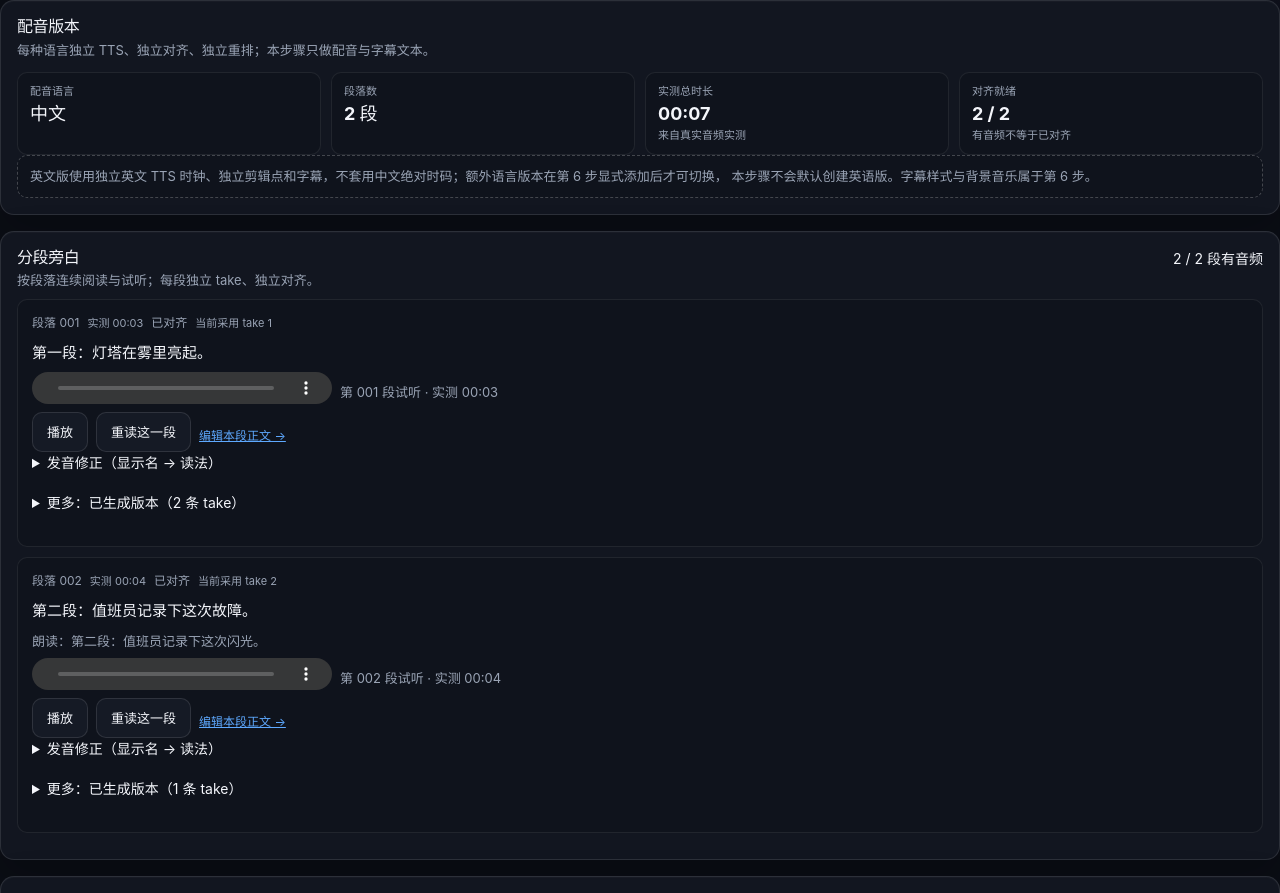
Test: audio page — narration reading and audition › says a re-read was not accepted instead of claiming success
The image size is (1280, 893).
Check: the text "第一段：灯塔在雾里亮起。" is shown, box [32,343,212,362]
Click the button "重读这一段" below "第 001 段试听": (144, 432) [96,412,191,452]
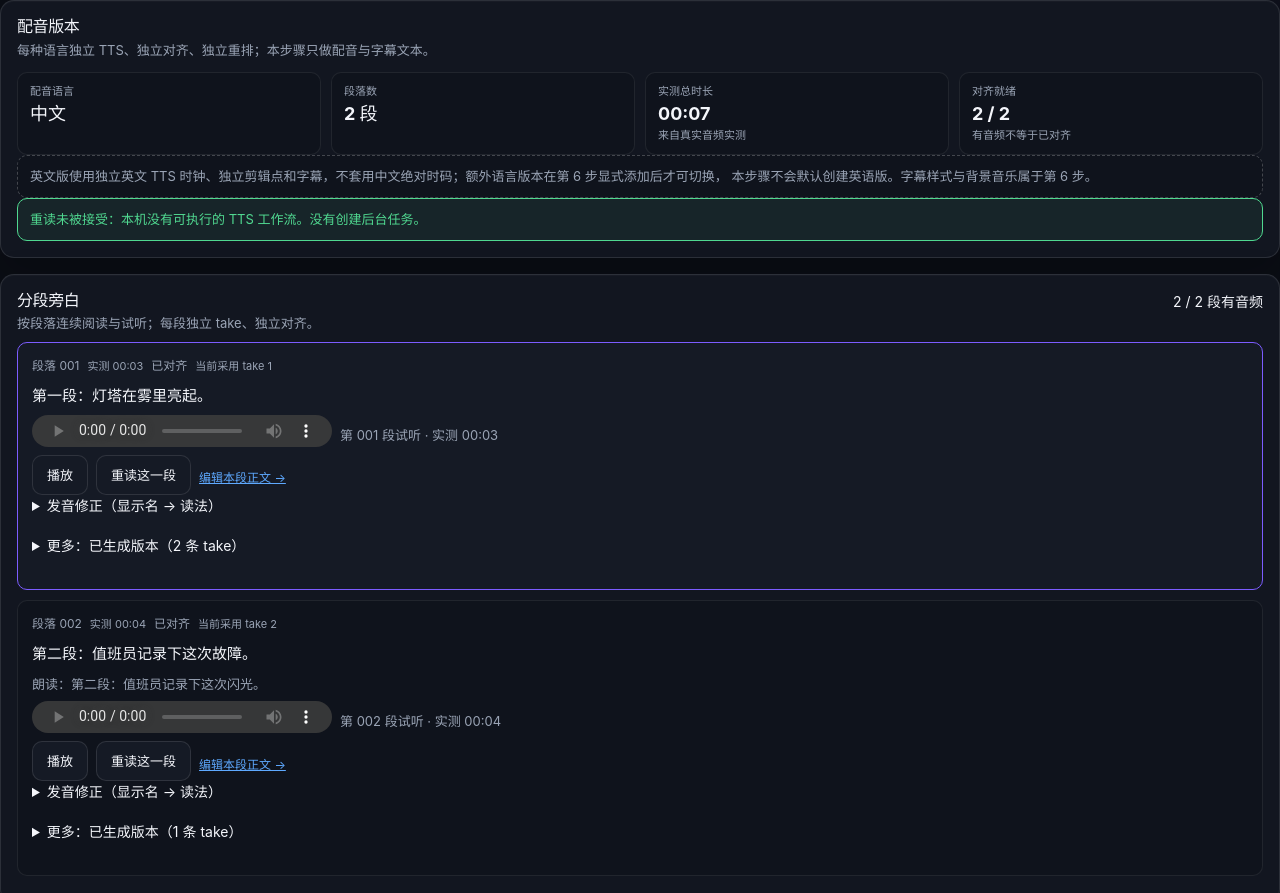
Check: the text "重读未被接受：本机没有可执行的 TTS 工作流。没有创建后台任务。" is shown, box [17,198,1263,240]
